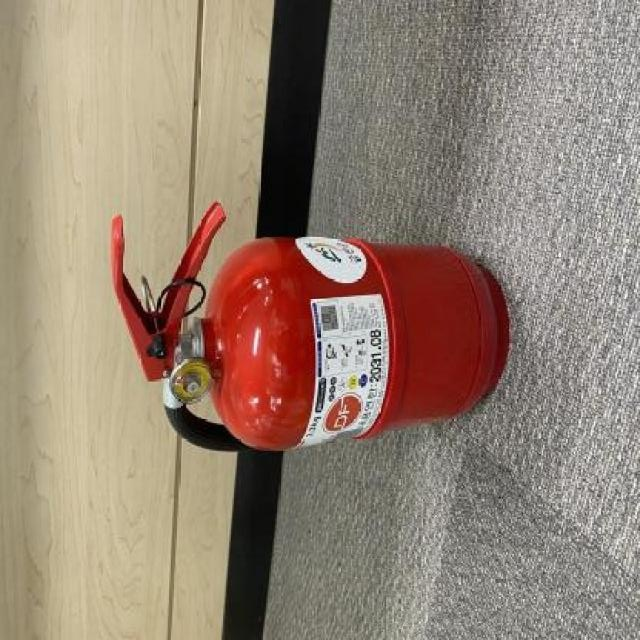fire extinguisher: (108, 200, 508, 451)
